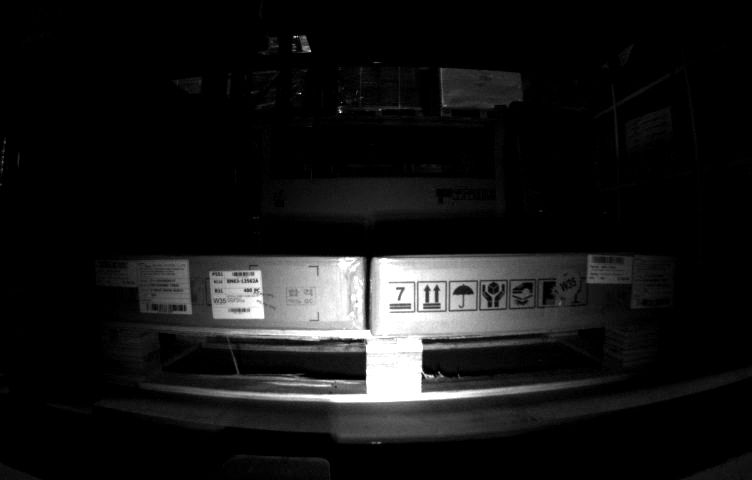True Barcode: (209, 272, 263, 317)
